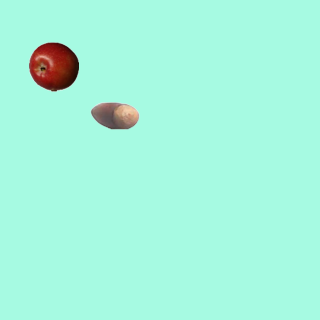Apple Braeburn: (28, 41, 78, 91)
Hazelnut: (89, 90, 139, 140)
